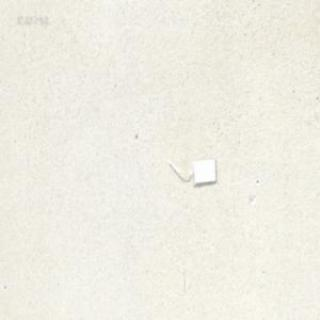LuggageTagtrack_idkeyframe: (166, 156, 217, 184)
